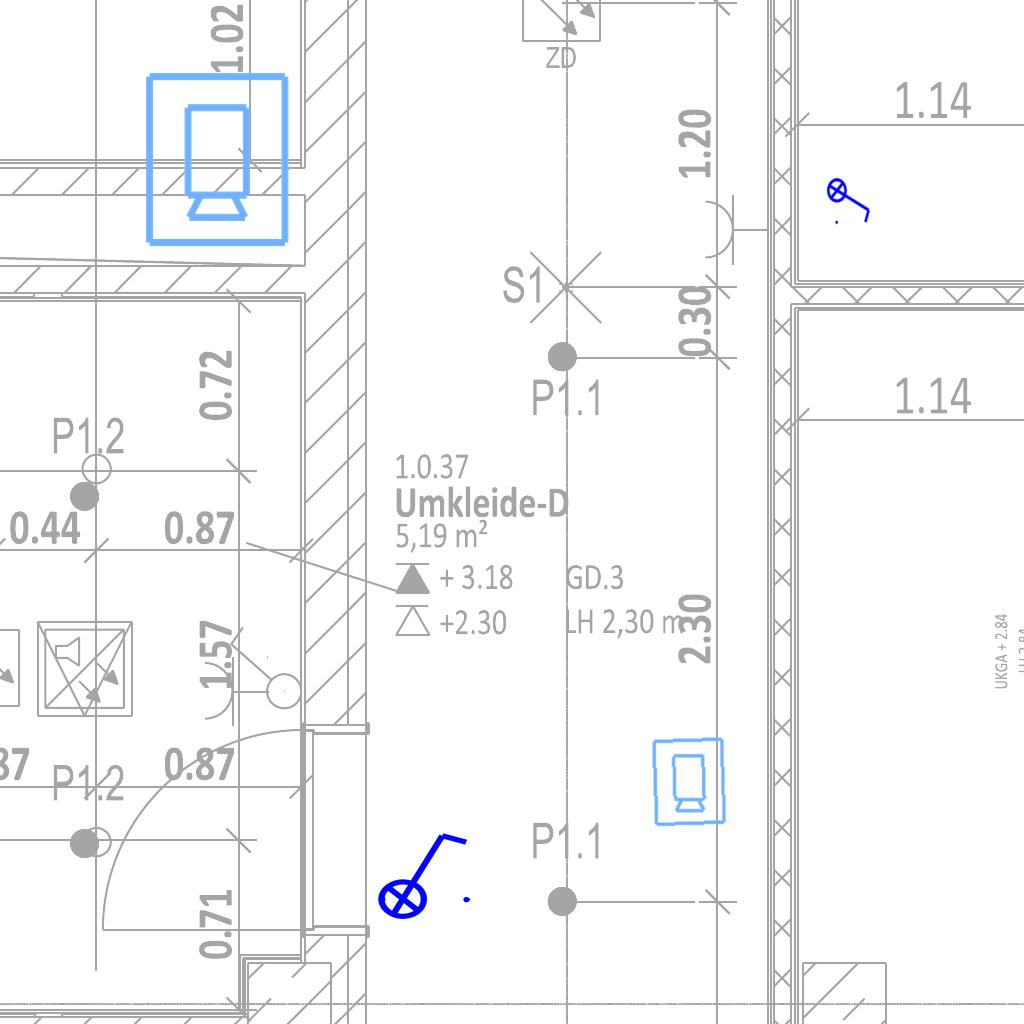Ausschalter_beleuchtet: (364, 825, 476, 921), (826, 171, 874, 227)
KFO_Kamera_mit_Festobjektiv: (139, 68, 293, 250), (648, 734, 729, 829)
